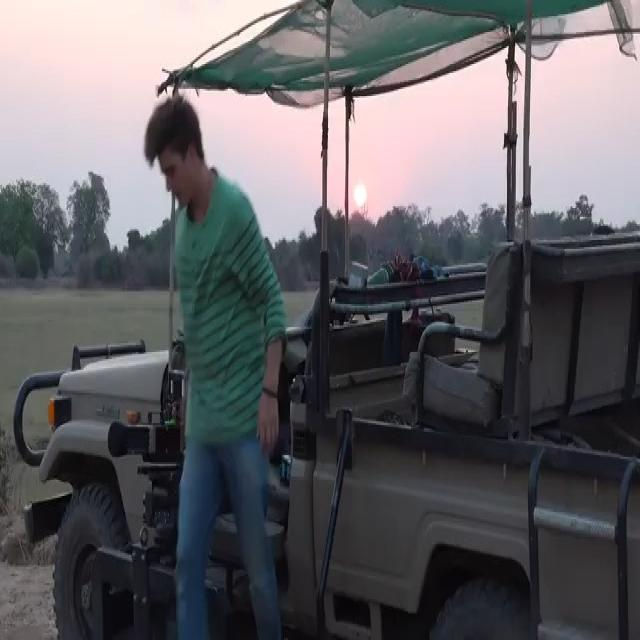human: (131, 75, 310, 640)
